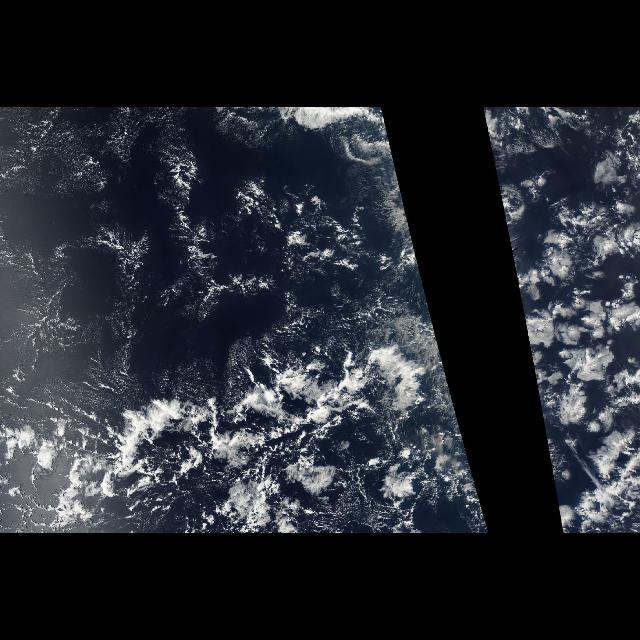Fish: (58, 331, 490, 533), (139, 156, 267, 322)
Flower: (499, 182, 637, 430)
Sugar: (1, 108, 370, 398)
